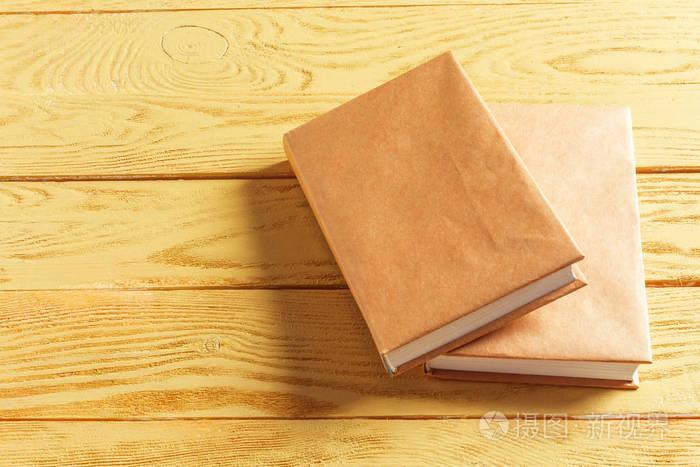book: (237, 41, 611, 396), (416, 71, 676, 409)
